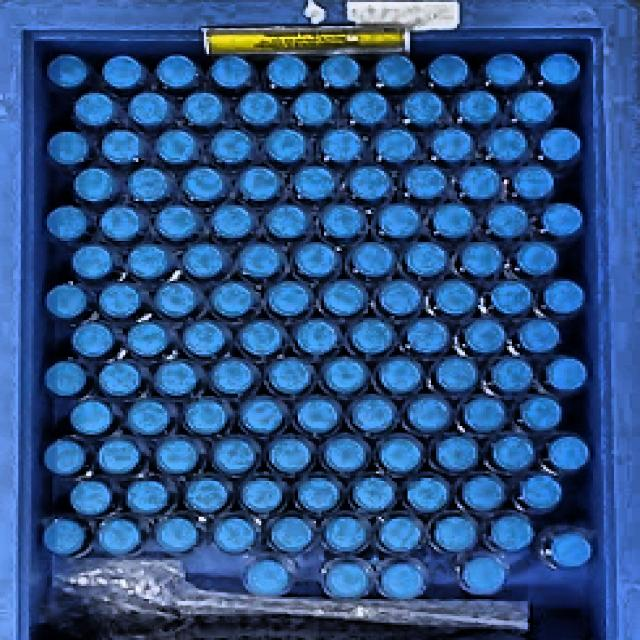vial: (70, 480, 114, 513), (45, 441, 87, 475), (217, 439, 256, 474), (44, 522, 84, 556), (210, 284, 252, 316), (182, 94, 226, 124), (156, 284, 196, 317), (553, 534, 593, 567), (103, 130, 144, 162), (432, 207, 473, 239), (269, 282, 310, 314), (465, 558, 506, 590), (326, 520, 367, 552), (380, 566, 421, 598), (265, 132, 307, 163), (492, 518, 535, 548), (73, 324, 112, 357), (44, 364, 84, 396), (488, 206, 529, 237), (354, 244, 395, 275), (351, 399, 392, 430), (242, 480, 283, 511), (45, 56, 87, 86), (183, 171, 225, 201), (44, 286, 86, 316), (324, 360, 366, 390), (240, 403, 282, 433), (213, 131, 250, 165), (381, 438, 418, 472), (408, 398, 446, 431), (158, 362, 197, 394), (297, 401, 336, 433), (328, 564, 367, 596), (72, 170, 115, 199), (129, 94, 169, 125), (101, 441, 141, 472), (549, 438, 586, 471), (463, 480, 500, 513), (484, 55, 526, 84), (100, 284, 142, 313), (100, 362, 138, 394), (186, 402, 224, 434), (128, 481, 166, 513), (323, 130, 362, 161), (436, 518, 475, 549), (382, 520, 421, 551), (188, 480, 227, 511), (487, 130, 527, 160), (348, 168, 388, 198), (272, 441, 312, 471), (182, 247, 223, 276), (380, 206, 417, 238), (522, 398, 559, 430), (105, 56, 143, 87), (320, 55, 358, 86), (403, 92, 441, 123), (355, 479, 393, 510), (249, 563, 287, 594), (461, 168, 500, 198), (406, 168, 445, 198), (407, 245, 446, 275), (72, 404, 111, 434), (494, 439, 533, 469), (215, 520, 254, 550), (157, 441, 196, 471), (47, 133, 87, 162), (44, 209, 84, 238), (73, 248, 113, 277), (128, 326, 168, 355), (241, 324, 281, 353), (542, 130, 578, 162), (274, 517, 310, 549), (436, 284, 477, 312), (465, 324, 506, 352), (129, 247, 166, 278), (466, 400, 503, 431), (160, 520, 197, 551), (377, 132, 415, 162), (241, 170, 279, 200), (267, 56, 306, 85), (75, 96, 114, 125), (266, 207, 305, 236), (409, 323, 448, 352), (512, 94, 552, 122), (517, 246, 557, 274), (183, 325, 223, 353), (214, 364, 254, 392), (300, 323, 336, 354), (158, 132, 195, 162), (543, 206, 580, 236), (494, 283, 531, 313), (296, 168, 334, 197), (439, 439, 474, 470), (242, 95, 278, 125), (516, 168, 552, 198), (131, 169, 167, 199), (104, 208, 140, 238), (298, 244, 334, 274), (411, 480, 447, 510), (158, 57, 195, 86), (213, 208, 250, 237), (353, 323, 390, 352), (129, 404, 166, 433), (346, 95, 387, 121), (210, 59, 248, 87), (542, 55, 580, 83), (434, 132, 472, 160), (157, 208, 195, 236), (273, 362, 311, 390), (384, 284, 419, 314), (463, 246, 500, 274), (326, 284, 363, 312), (546, 282, 583, 310), (300, 481, 337, 509), (242, 247, 278, 275), (328, 442, 364, 470), (103, 522, 139, 550), (374, 58, 412, 84), (430, 57, 465, 85), (458, 93, 493, 121), (295, 96, 331, 123), (326, 207, 362, 234), (439, 362, 476, 388), (384, 359, 418, 387), (524, 477, 558, 505), (550, 361, 585, 386), (521, 323, 557, 347), (496, 362, 530, 385)
